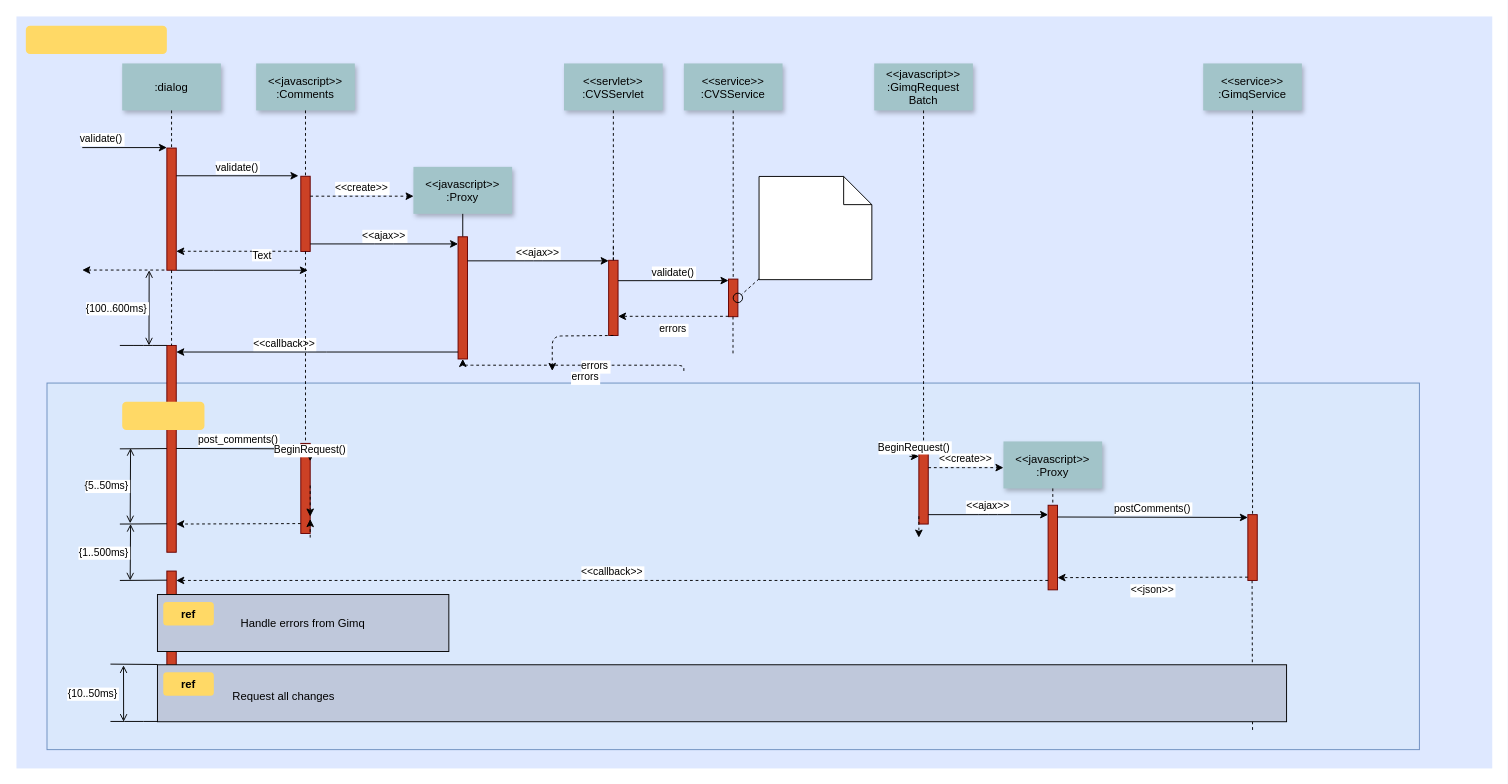
Some shapes in this 1508 by 784 pixel diagram are drawn without their labels. Each missing label, with the centre of its shape:
"- user validation - password check" goes at (x=815, y=227).
"opt" goes at (x=163, y=415).
"rt submit_changes" goes at (x=95, y=39).
